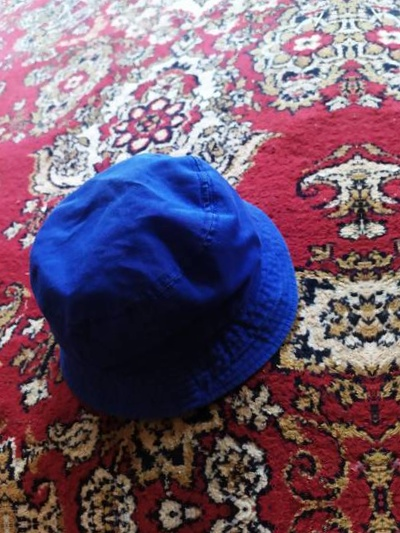Hat: (26, 95, 306, 427)
